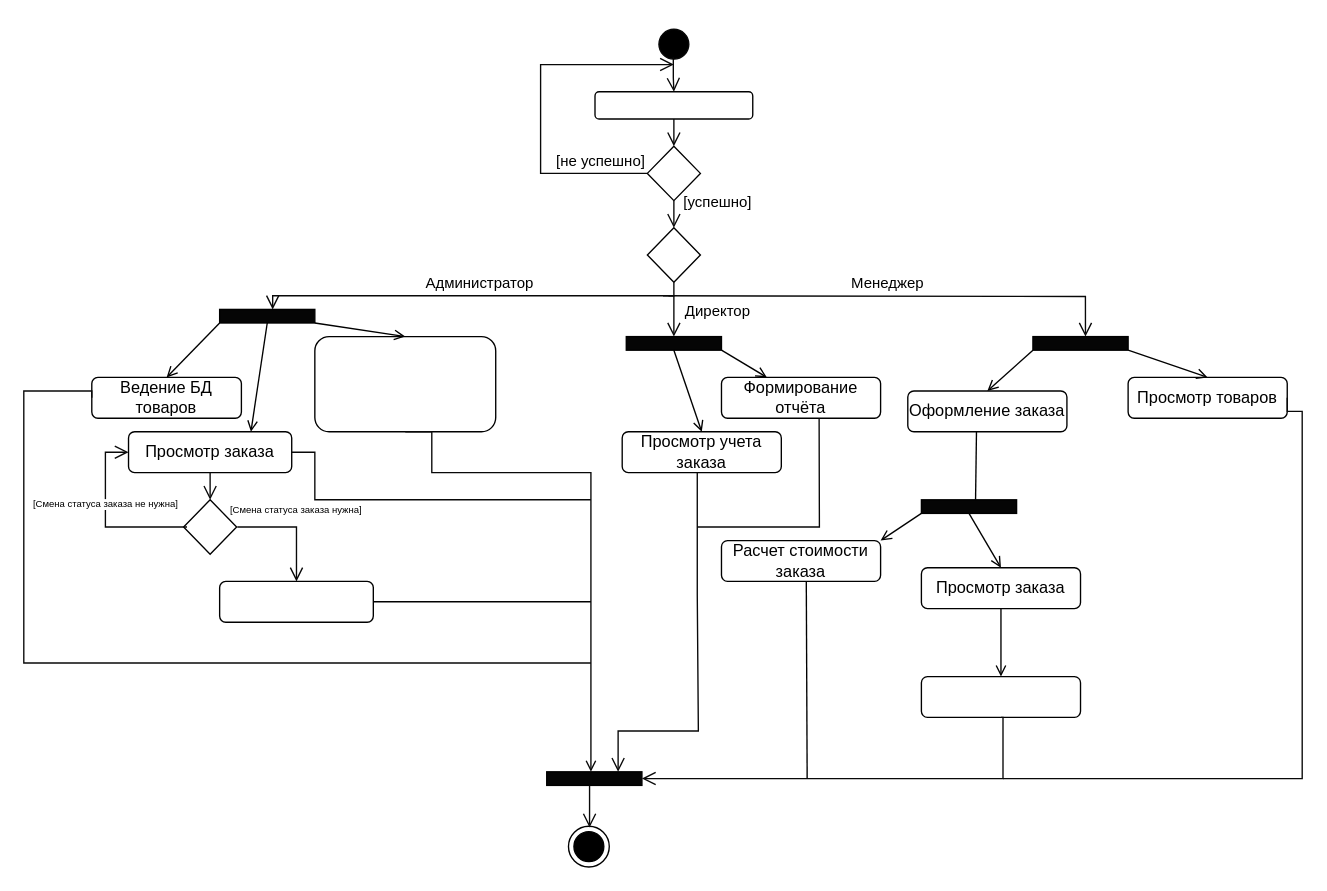
This 1327x891 diagram has some shape labels left out. Here are the shapes that lost their labels. From the top down, the box of each, then its label:
(594, 90, 753, 119): Авторизация
(313, 335, 496, 432): Ведение БД справочников(Роли/Статус заказа/Категория/Пользователи)
(218, 580, 373, 622): Смена ошибочного статуса заказа
(920, 675, 1081, 717): Формирование чека
